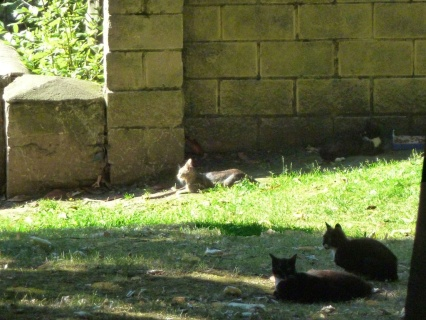Cat: (270, 252, 373, 305), (321, 222, 398, 280), (316, 119, 387, 162), (175, 157, 259, 193)
